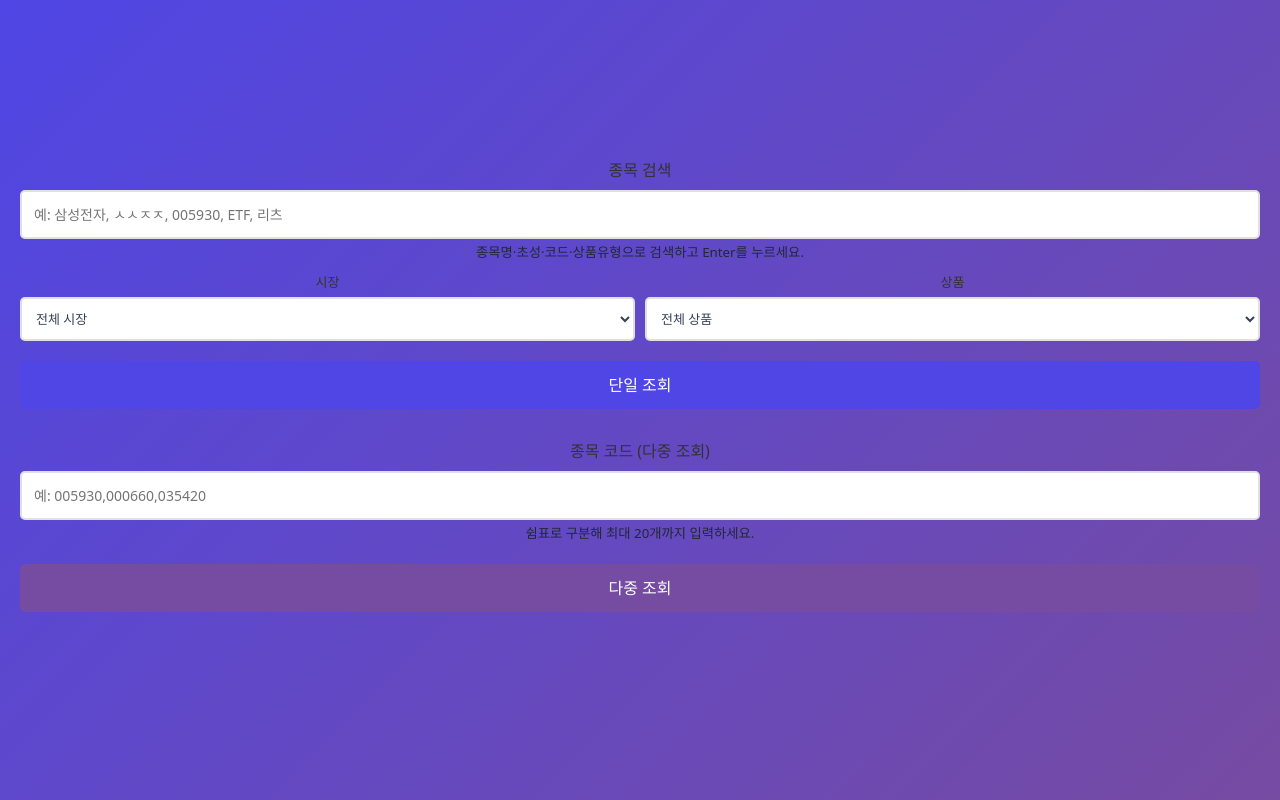
Test: StockSearchForm › 검색 결과가 없으면 접근 가능한 오류로 표시한다
The width and height of the screenshot is (1280, 800).
Type "없는종목" into the field labelled "종목 검색" at (640, 214), box [20,190,1260,239]
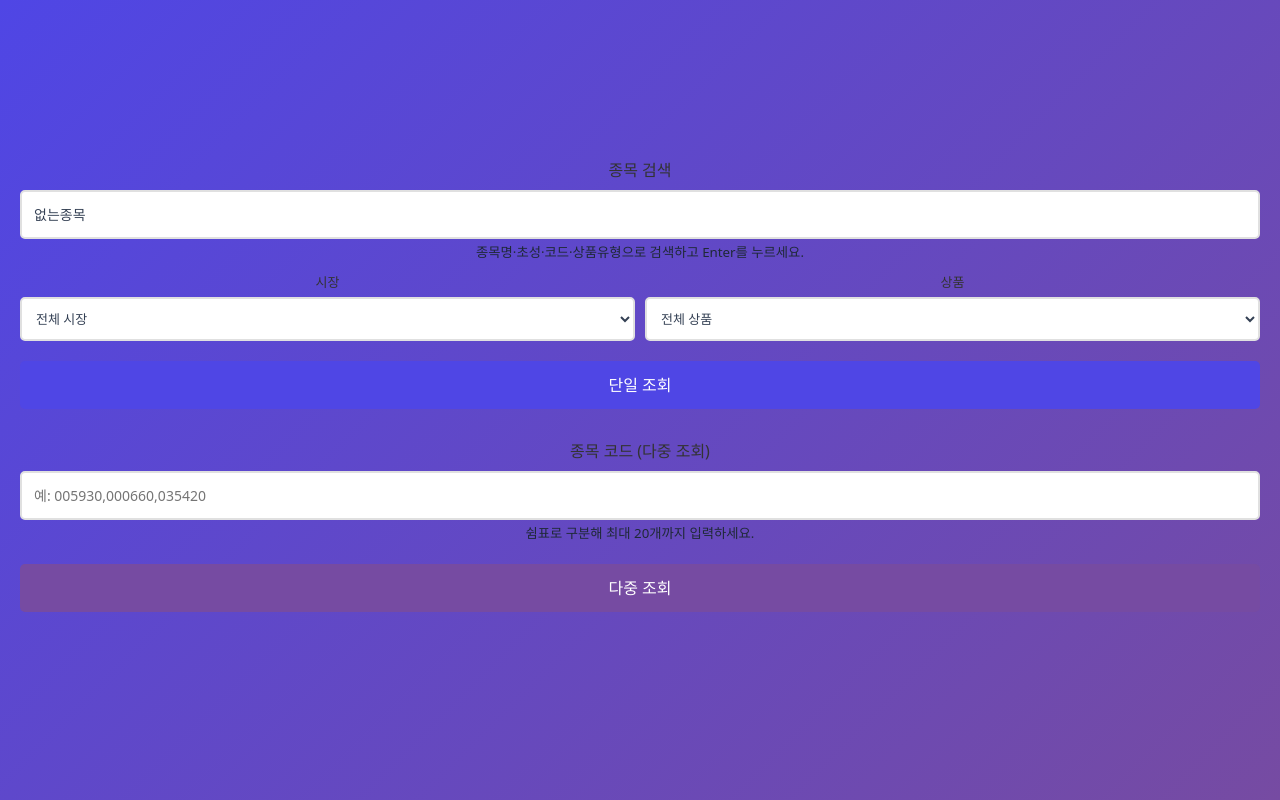
Click the button "단일 조회" at (640, 385), box [20,361,1260,409]
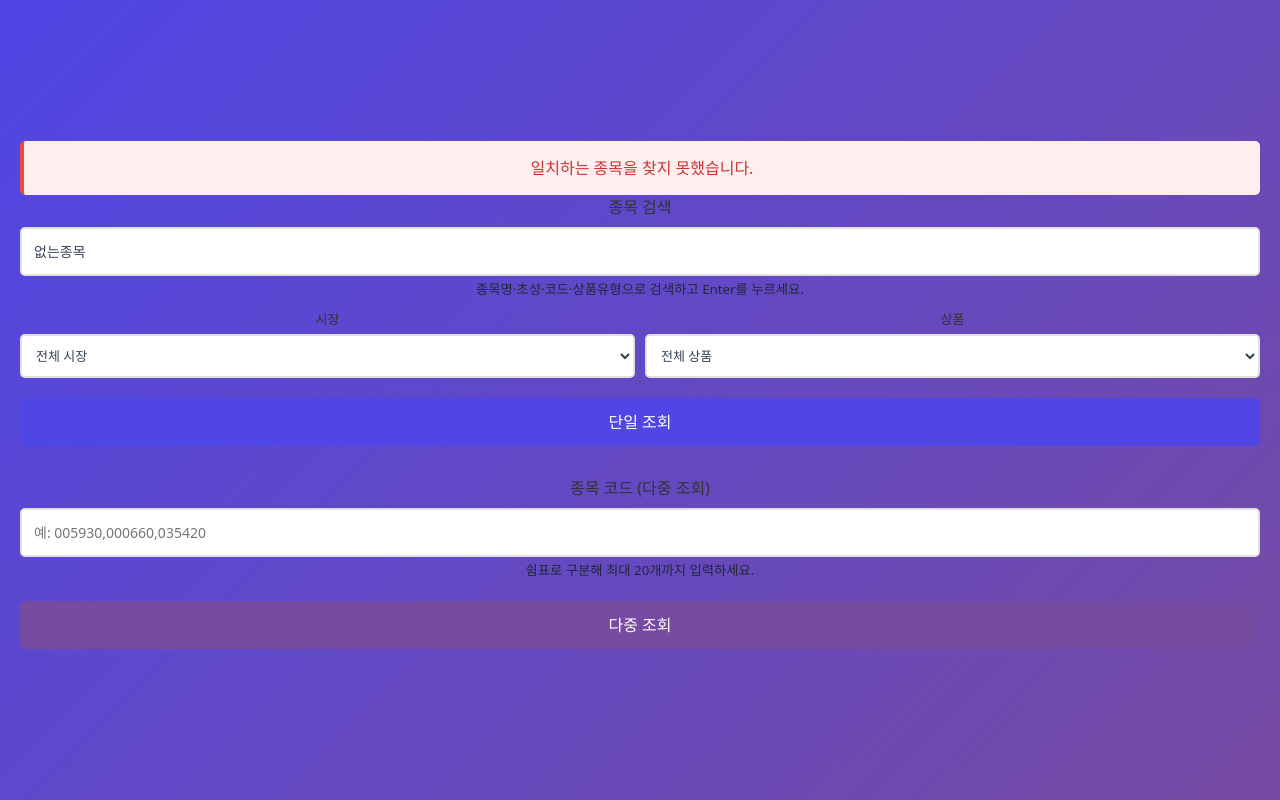
Expected: the message shows "일치하는 종목", [531,157,754,179]
